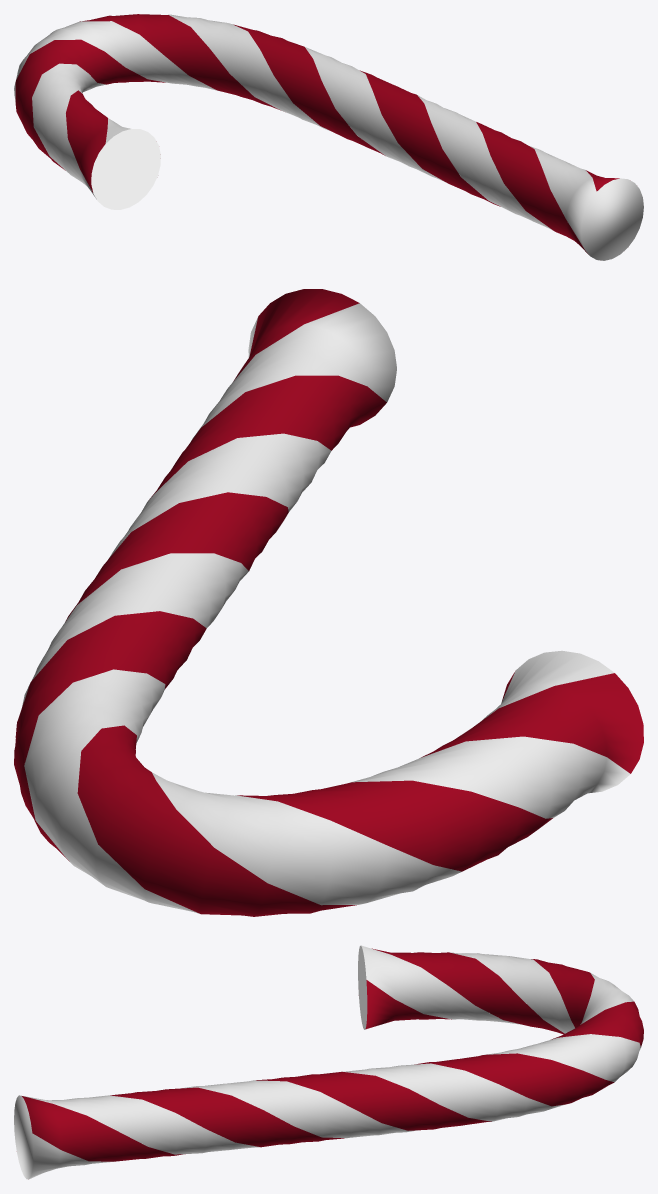
Rendered from candy.glb.
3 renders of one model, top to bottom at view 1: azimuth 30°, elevation 25°; view 2: azimuth 150°, elevation 25°; view 3: azimuth 270°, elevation 25°, orthographic. The views are drawn at different scales.
Visible parts, largest first — view 1: Circle.017; view 2: Circle.017; view 3: Circle.017.
Part boxes in pixels (x1,y1,x2,y2): Circle.017: (14,14,643,260); Circle.017: (14,289,643,916); Circle.017: (14,945,643,1179).
Size of the model in its own units: 1.02 by 0.1988 by 1.47.
